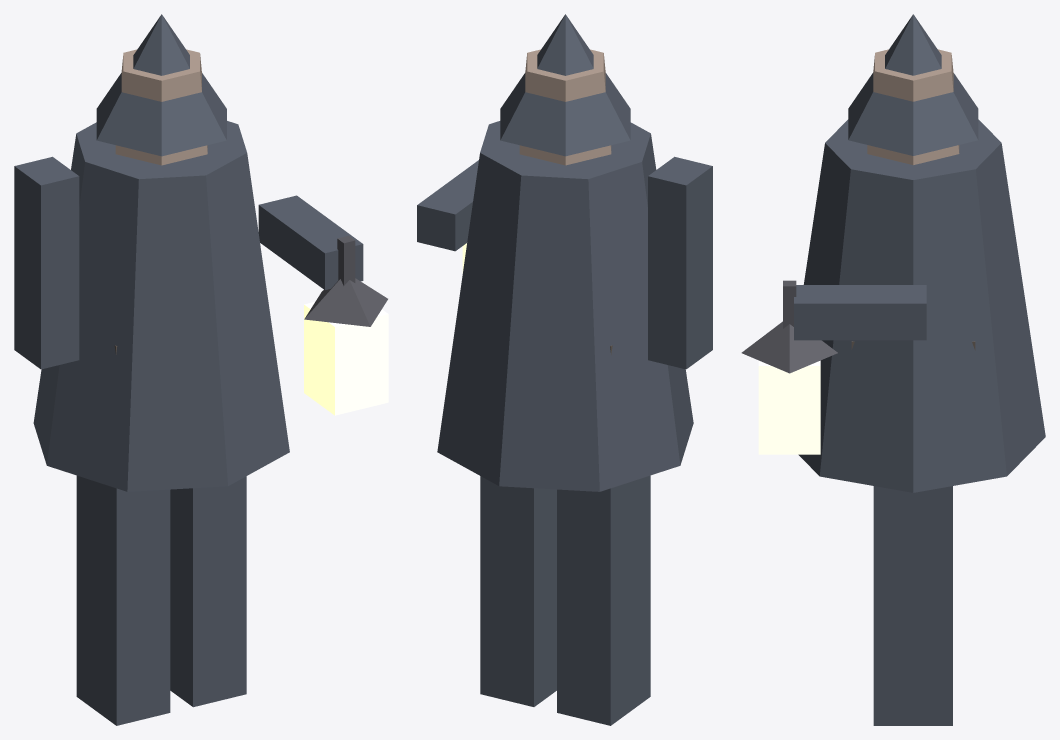
Rendered from villager.glb.
3 views of the same model, side by side, from view 1: azimuth 30°, elevation 25°; view 2: azimuth 150°, elevation 25°; view 3: azimuth 270°, elevation 25° (orthographic).
Visible parts, largest first — view 1: villager; view 2: villager; view 3: villager.
Boxes of the visible parts, x1,y1,x2,y2 form: villager: [14, 14, 388, 725]; villager: [417, 14, 712, 725]; villager: [741, 14, 1045, 725].
Size of the model in its own units: 0.78 by 1.7 by 0.69.
